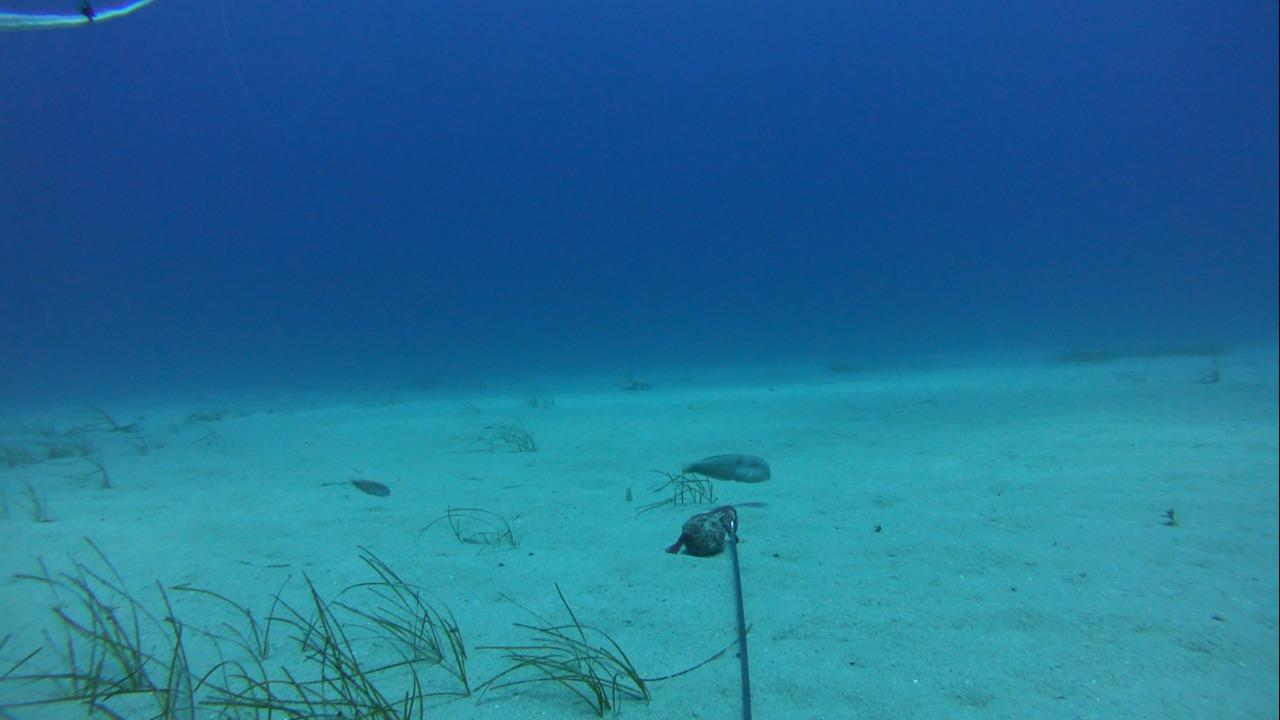raor: (681, 446, 776, 486), (339, 468, 399, 502)
